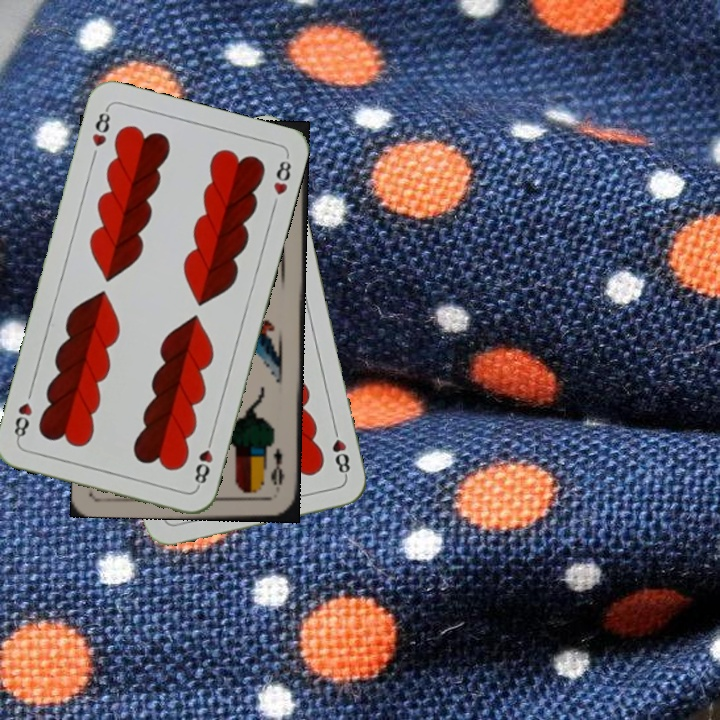EO: (266, 444, 287, 495)
H8: (190, 432, 216, 490), (328, 421, 353, 480), (88, 104, 113, 150)
